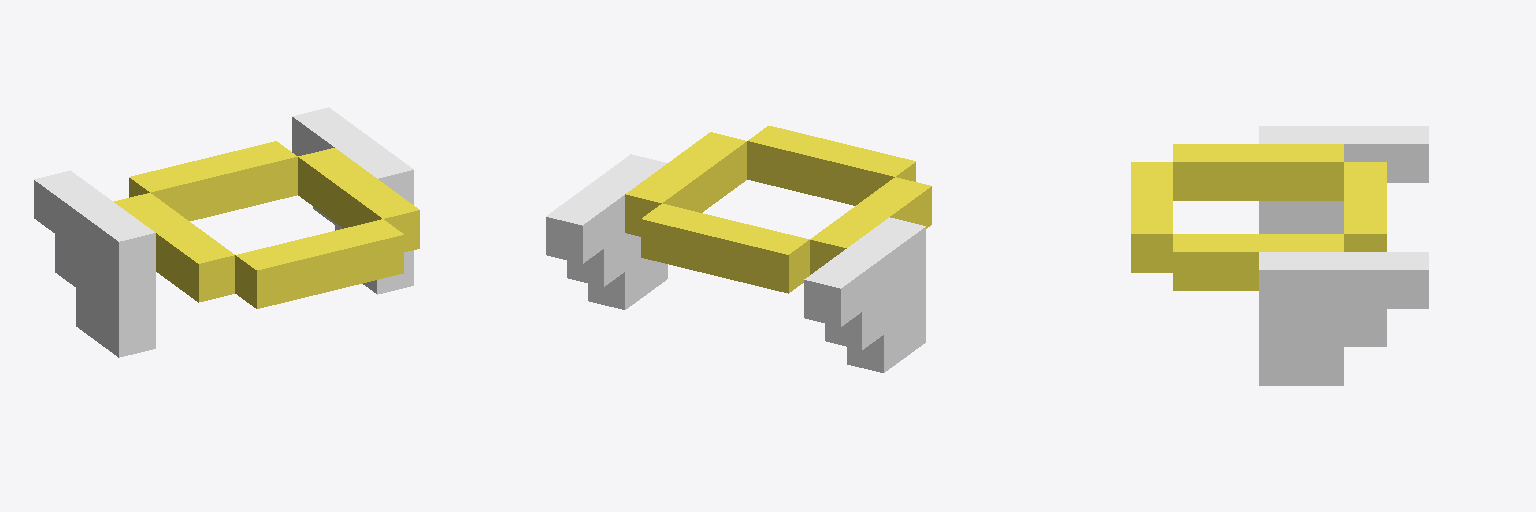
3 renders of one model, left to right at view 1: azimuth 30°, elevation 25°; view 2: azimuth 150°, elevation 25°; view 3: azimuth 270°, elevation 25°, orthographic.
Visible parts, largest first — view 1: object 1; view 2: object 1; view 3: object 1.
Boxes of the visible parts, box(x1,y1,x2,y2) form: object 1: box(34, 107, 419, 357); object 1: box(546, 126, 931, 372); object 1: box(1131, 126, 1428, 385).
Size of the model in its own units: 0.8 by 0.3 by 0.7.
1 materials, 1 textured.